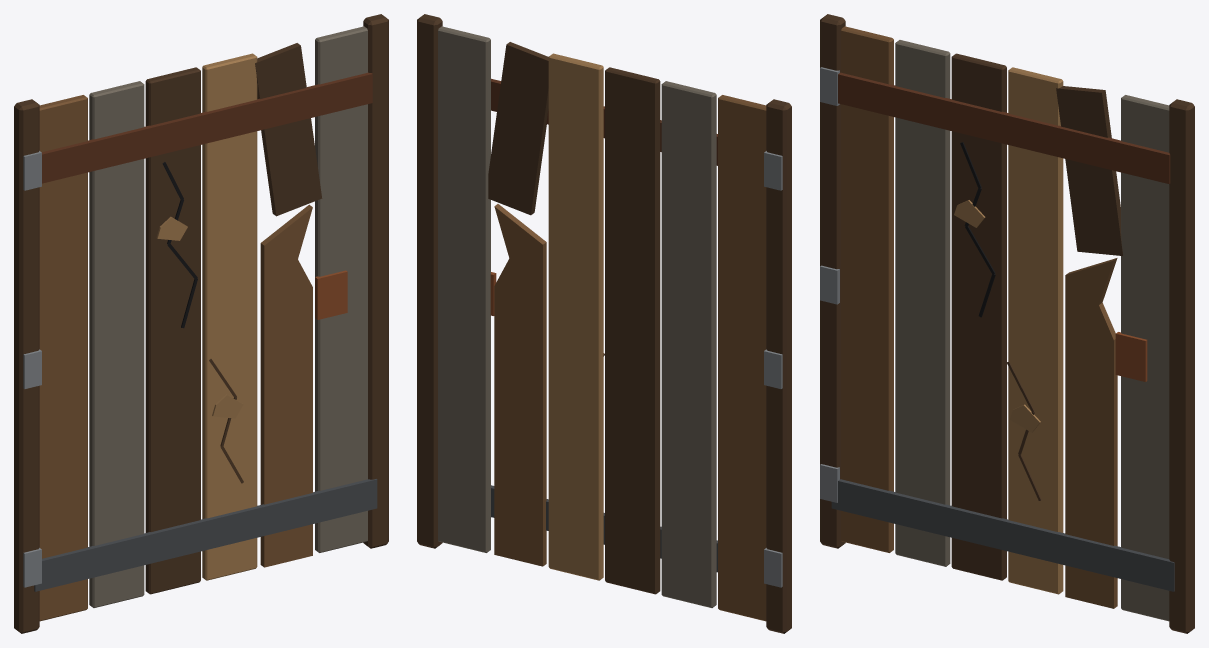
Rendered from piece_door_wood_damaged.fbx.
3 views of the same model, side by side, from view 1: azimuth 30°, elevation 25°; view 2: azimuth 150°, elevation 25°; view 3: azimuth 330°, elevation 25° (orthographic).
Parts seen in each view (by area): view 1: piece_door_wood_damaged; view 2: piece_door_wood_damaged; view 3: piece_door_wood_damaged.
Part boxes in pixels (bbox=[...]): piece_door_wood_damaged: bbox=[14, 14, 388, 633]; piece_door_wood_damaged: bbox=[417, 14, 791, 633]; piece_door_wood_damaged: bbox=[820, 14, 1194, 633].
Bounding box in the file's own units: 1.6 × 2.18 × 0.08.
